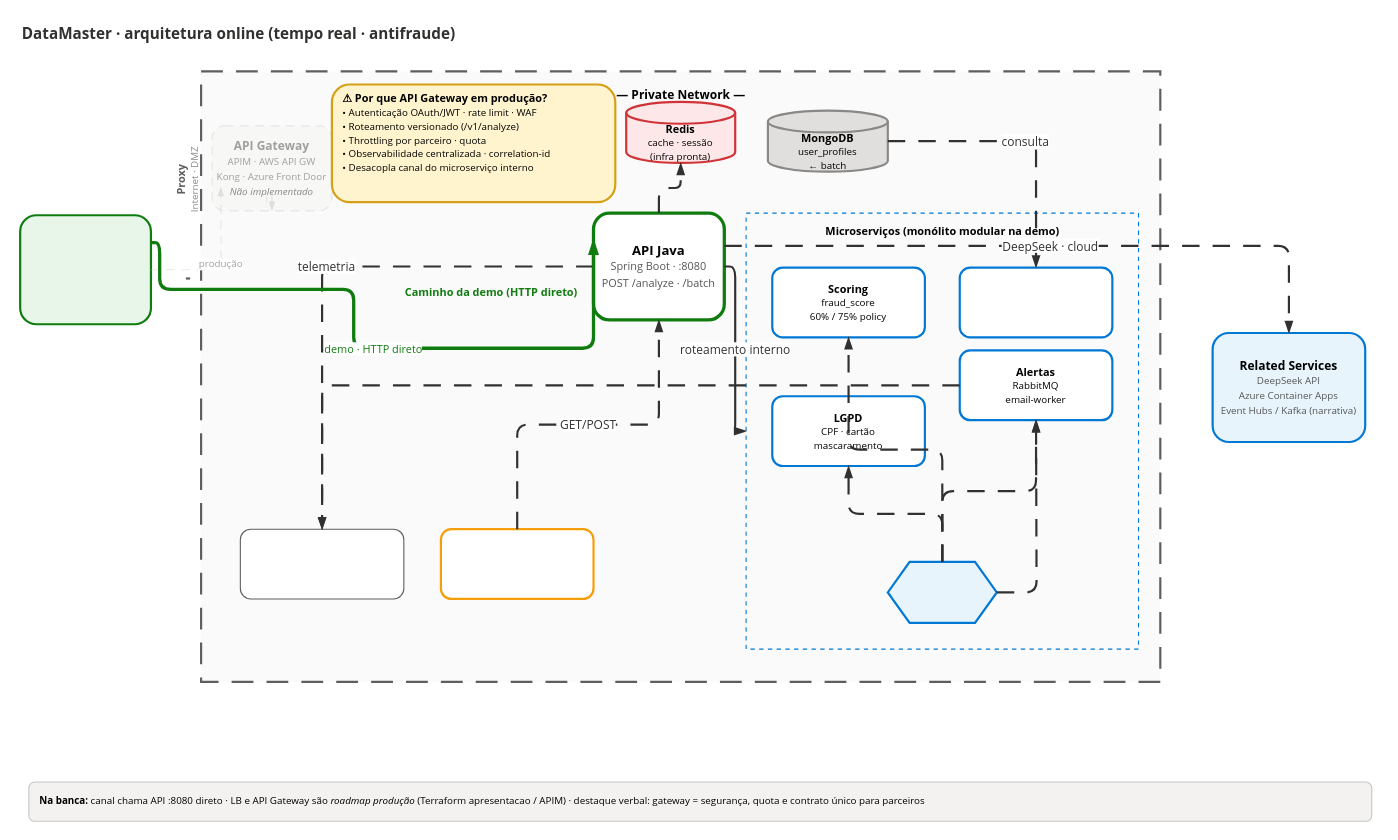
The diagram is 1398 pixels wide and 840 high, and some of its shapes have lost their labels. Each missing label, with the centre of its shape:
"Clientes / Canais Console :3333 · Dashboard :8501 Swagger · curl · mobile/web" belongs at point (85, 269).
"Dashboard Streamlit :8501 liberar · IA DeepSeek" belongs at point (516, 564).
"Internal Routing" belongs at point (941, 591).
"Observabilidade Prometheus · Grafana /health · métricas" belongs at point (321, 563).
"Perfil anomaly_boost MongoDB lookup" belongs at point (1035, 302).
